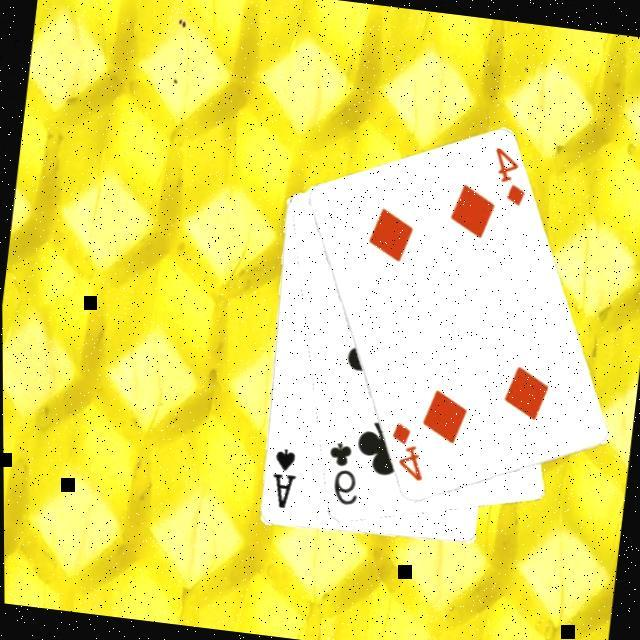4D: (383, 417, 432, 485), (486, 142, 534, 210)
6C: (320, 437, 368, 509)
AS: (265, 443, 303, 512)
